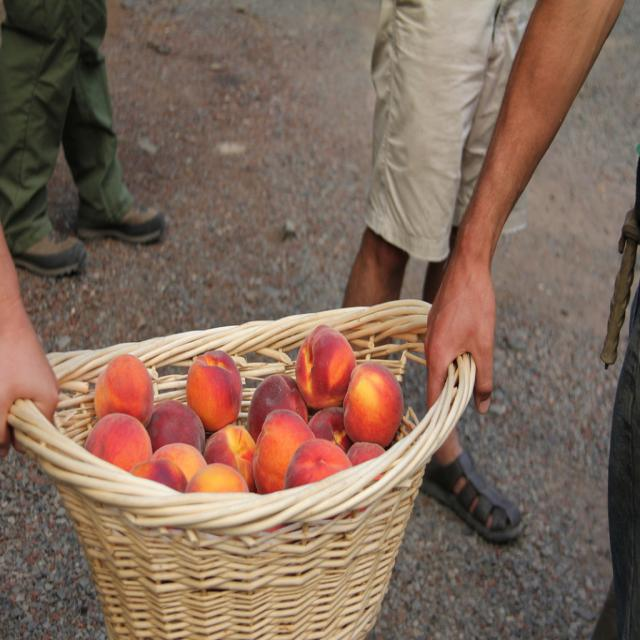Peach: (83, 322, 404, 541)
